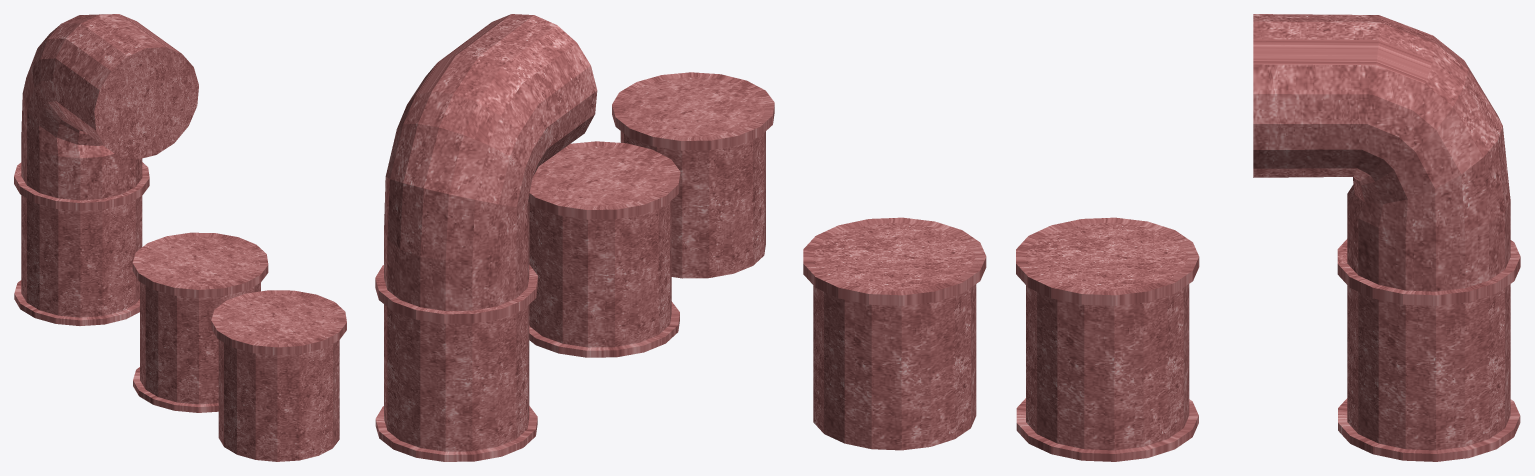
The model's file is env.fbx.
3 views of the same model, side by side, from view 1: azimuth 30°, elevation 25°; view 2: azimuth 150°, elevation 25°; view 3: azimuth 270°, elevation 25° (orthographic). The views are drawn at different scales.
Visible parts, largest first — view 1: Cylinder.002, Cylinder, Cylinder.001; view 2: Cylinder.002, Cylinder.001, Cylinder; view 3: Cylinder.002, Cylinder.001, Cylinder.
Part boxes in pixels (box(x1,y1,x2,y2)): Cylinder.002: box(14, 14, 198, 325); Cylinder: box(211, 290, 346, 461); Cylinder.001: box(132, 232, 268, 412); Cylinder.002: box(375, 14, 597, 461); Cylinder.001: box(527, 141, 680, 357); Cylinder: box(612, 72, 774, 278); Cylinder.002: box(1253, 14, 1520, 461); Cylinder.001: box(1016, 217, 1199, 461); Cylinder: box(803, 217, 986, 450).
Size of the model in its own units: 223 by 539 by 872.
